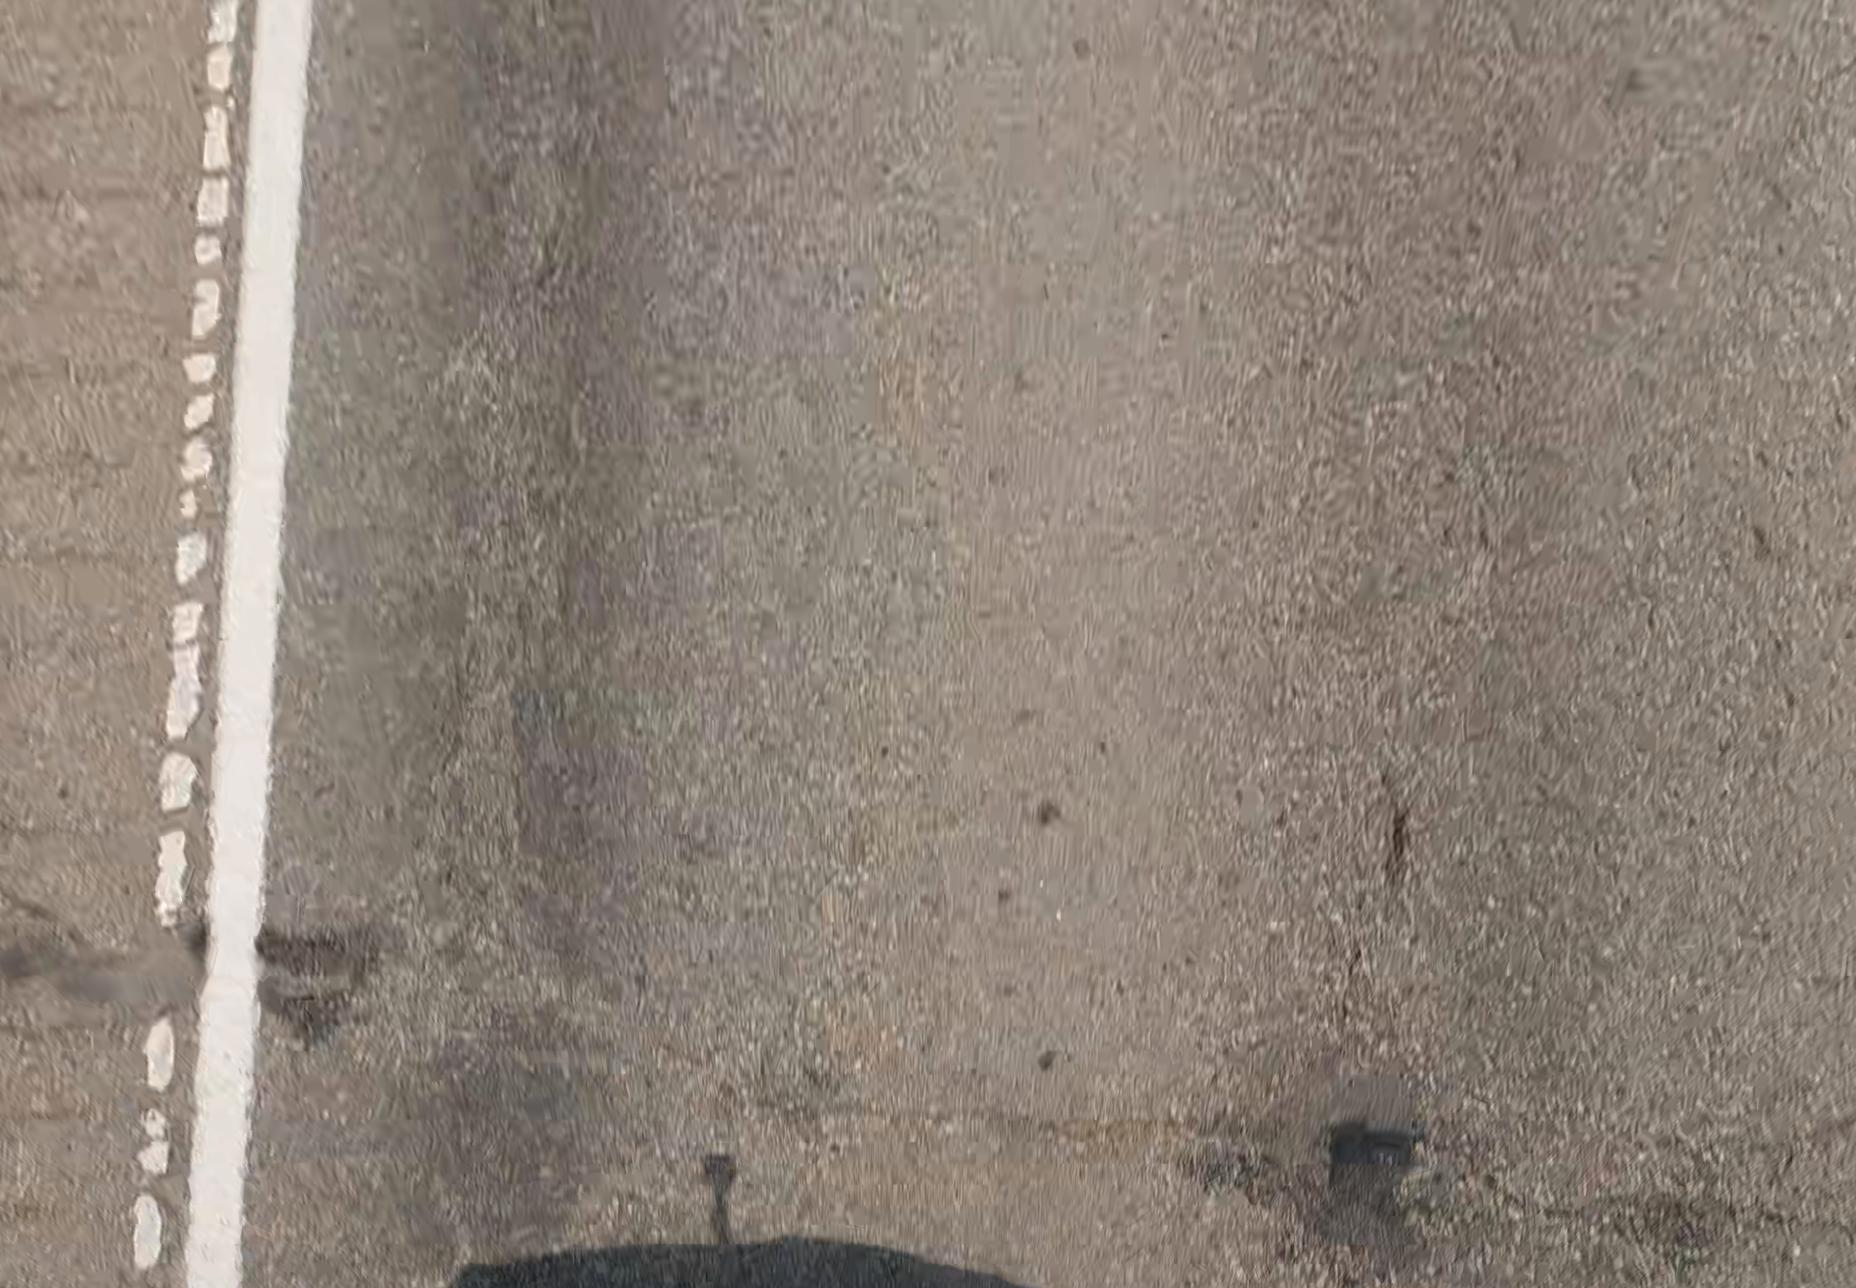pothole_patch_poor: (1192, 1014, 1424, 1282)
